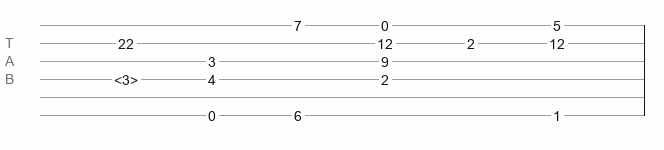0: (208, 108, 216, 118), (381, 18, 389, 28)
1: (553, 108, 561, 118)
12: (377, 36, 393, 46), (549, 36, 565, 46)
2: (381, 72, 389, 82), (467, 36, 475, 46)
22: (118, 36, 134, 46)
3: (208, 54, 216, 64)
4: (208, 72, 216, 82)
5: (553, 18, 561, 28)
6: (294, 108, 302, 118)
7: (294, 18, 302, 28)
9: (381, 54, 389, 64)
harmonic: (114, 72, 138, 82)
